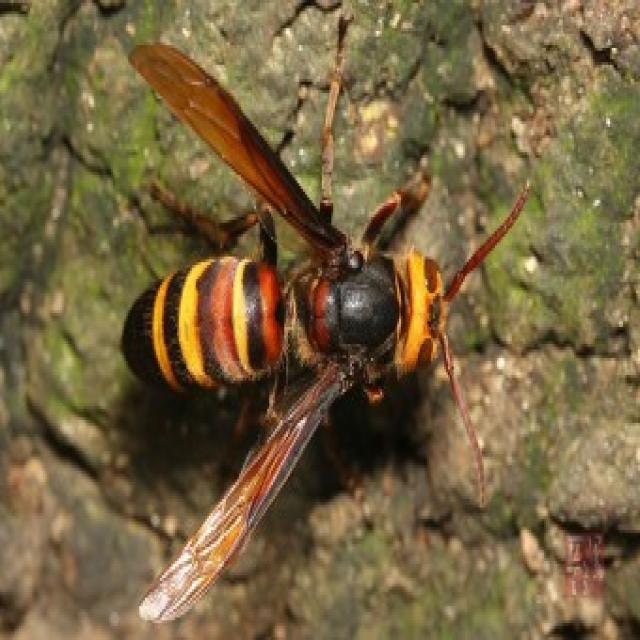Wasp: (118, 25, 462, 615)
